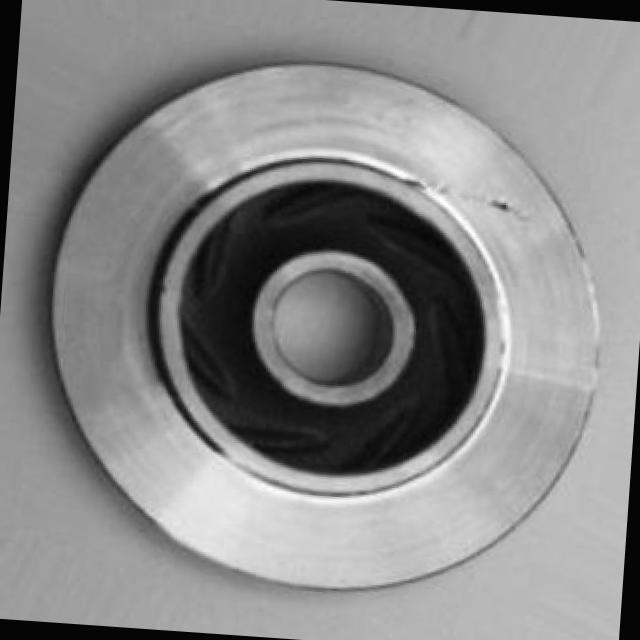Defect: (463, 179, 538, 230)
